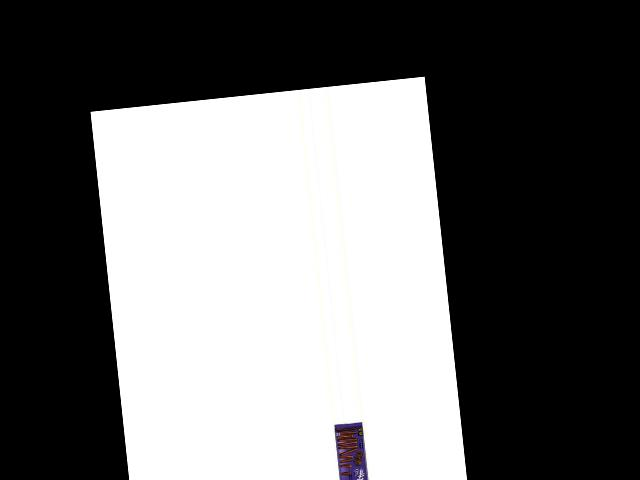chocolate: (330, 420, 370, 480)
